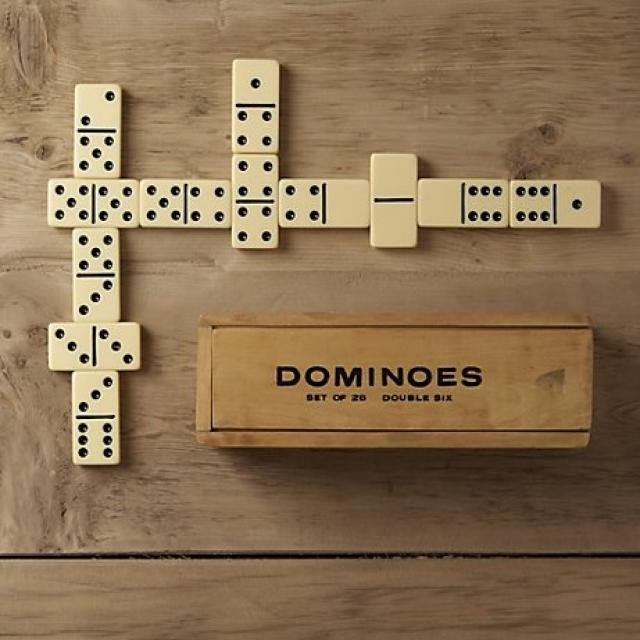domino: (69, 80, 125, 178), (226, 56, 282, 154), (43, 320, 144, 373), (68, 371, 122, 467), (229, 152, 279, 251), (45, 175, 140, 227), (507, 177, 602, 229), (368, 152, 418, 250), (416, 177, 510, 229), (69, 228, 121, 321), (278, 177, 370, 228), (140, 176, 230, 227)
